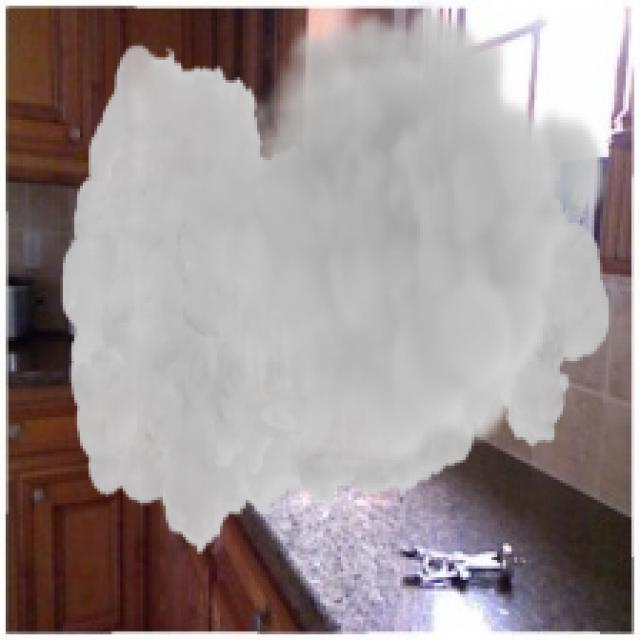Smoke: (59, 0, 612, 557)
